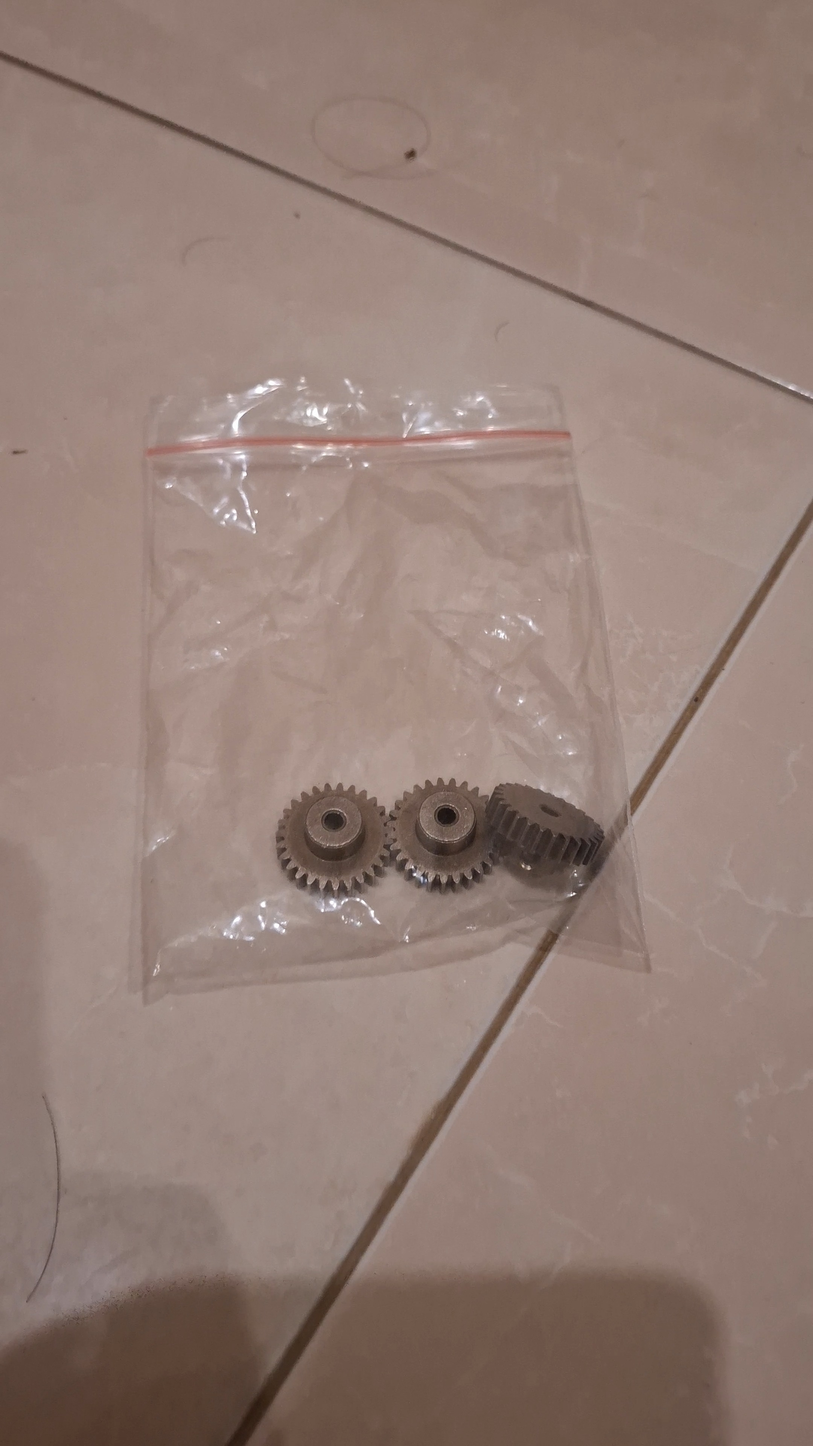spur gear: (272, 782, 393, 898), (385, 778, 498, 892), (479, 781, 608, 880)
